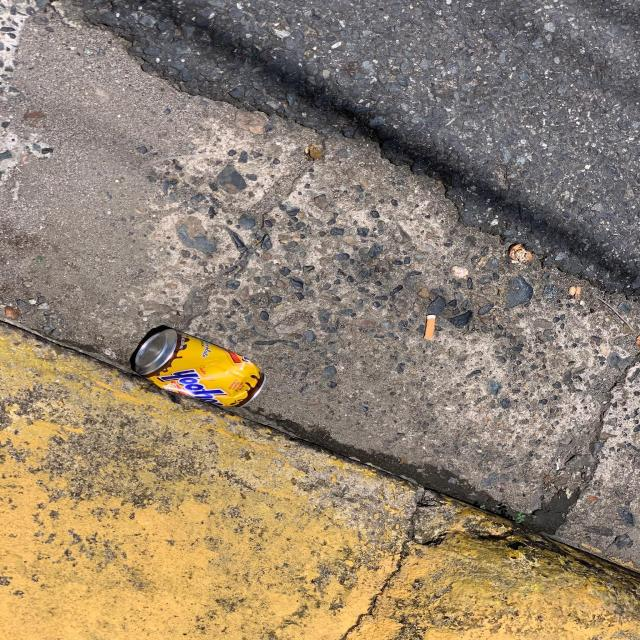litter: (133, 329, 260, 411)
